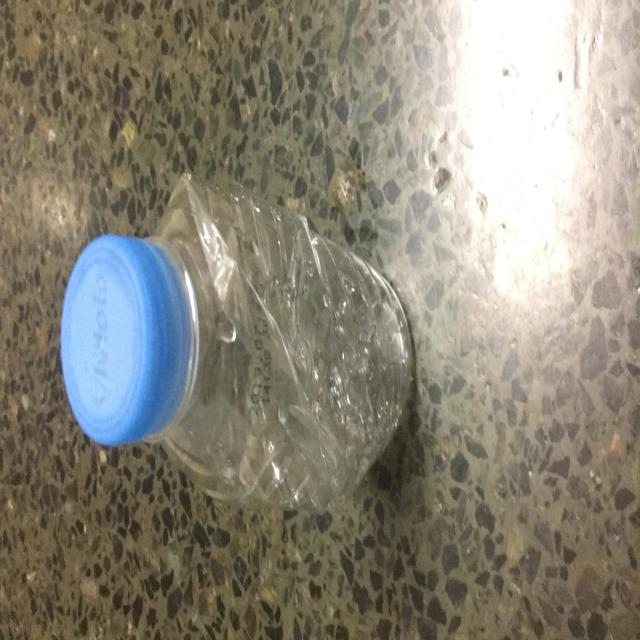bottle: (31, 149, 427, 547)
